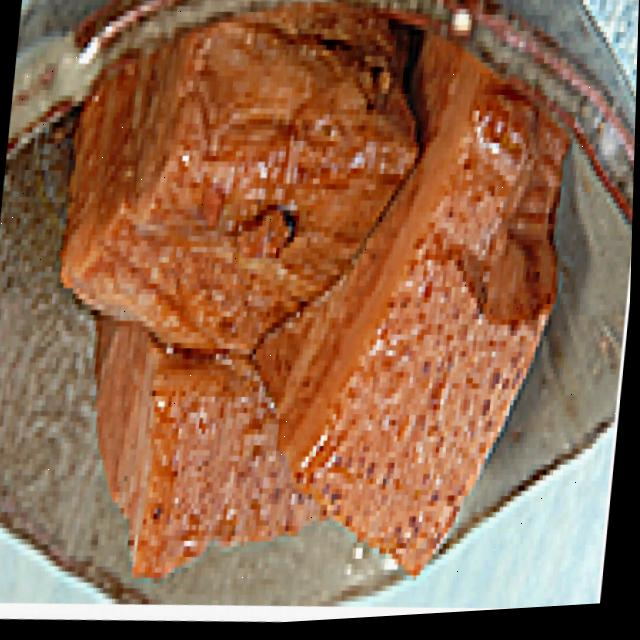猪肉菜式: (16, 0, 596, 629)
